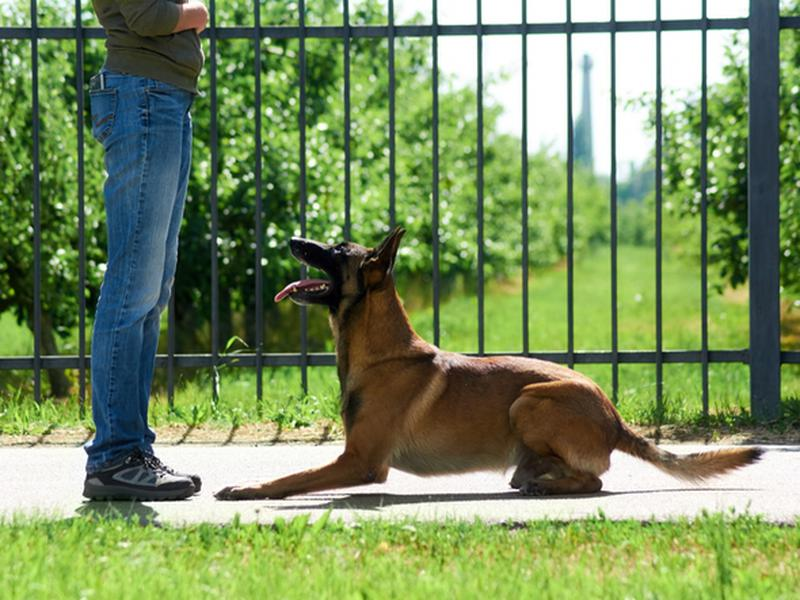dog_down: (207, 225, 766, 501)
